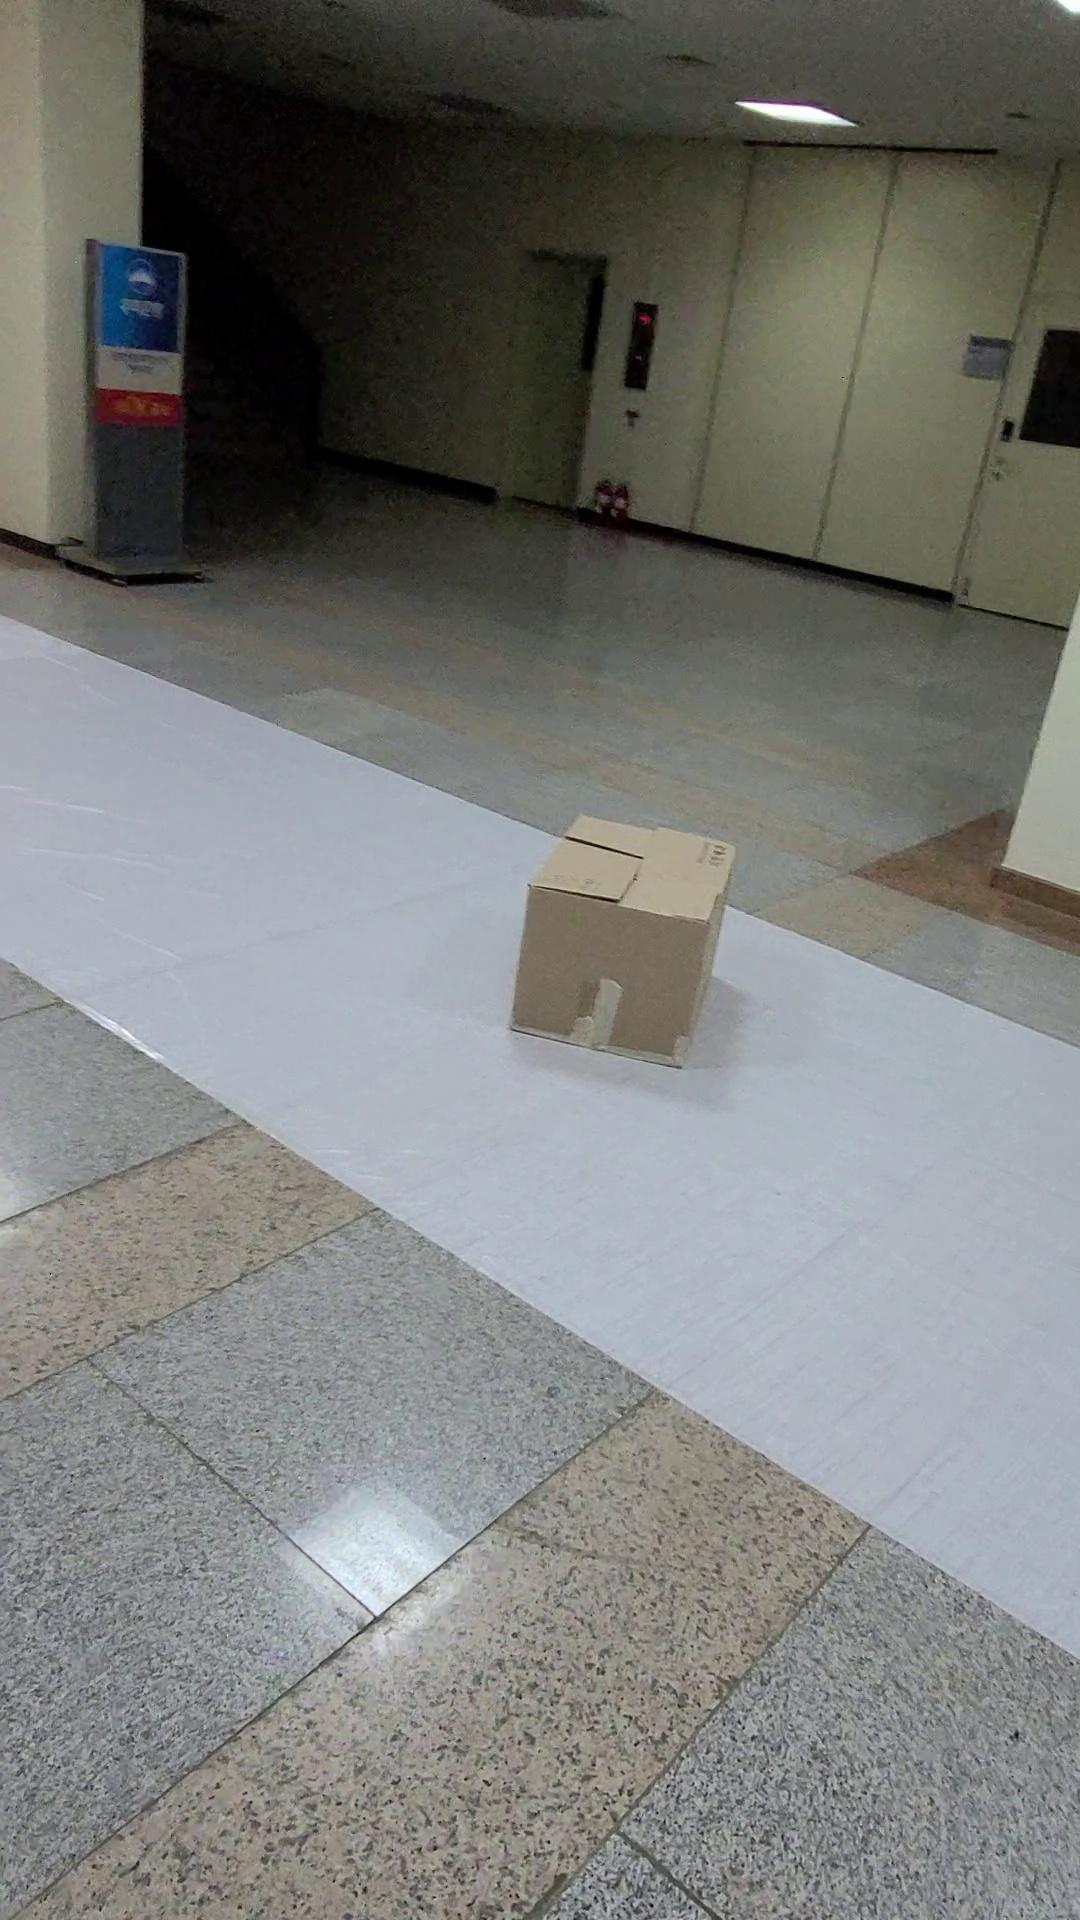Box: (468, 808, 764, 1088)
